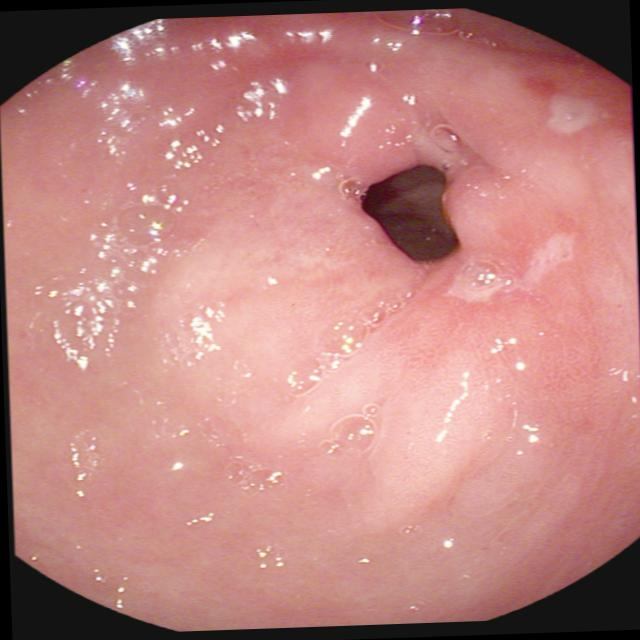normal-pylorus: (172, 11, 632, 317)
